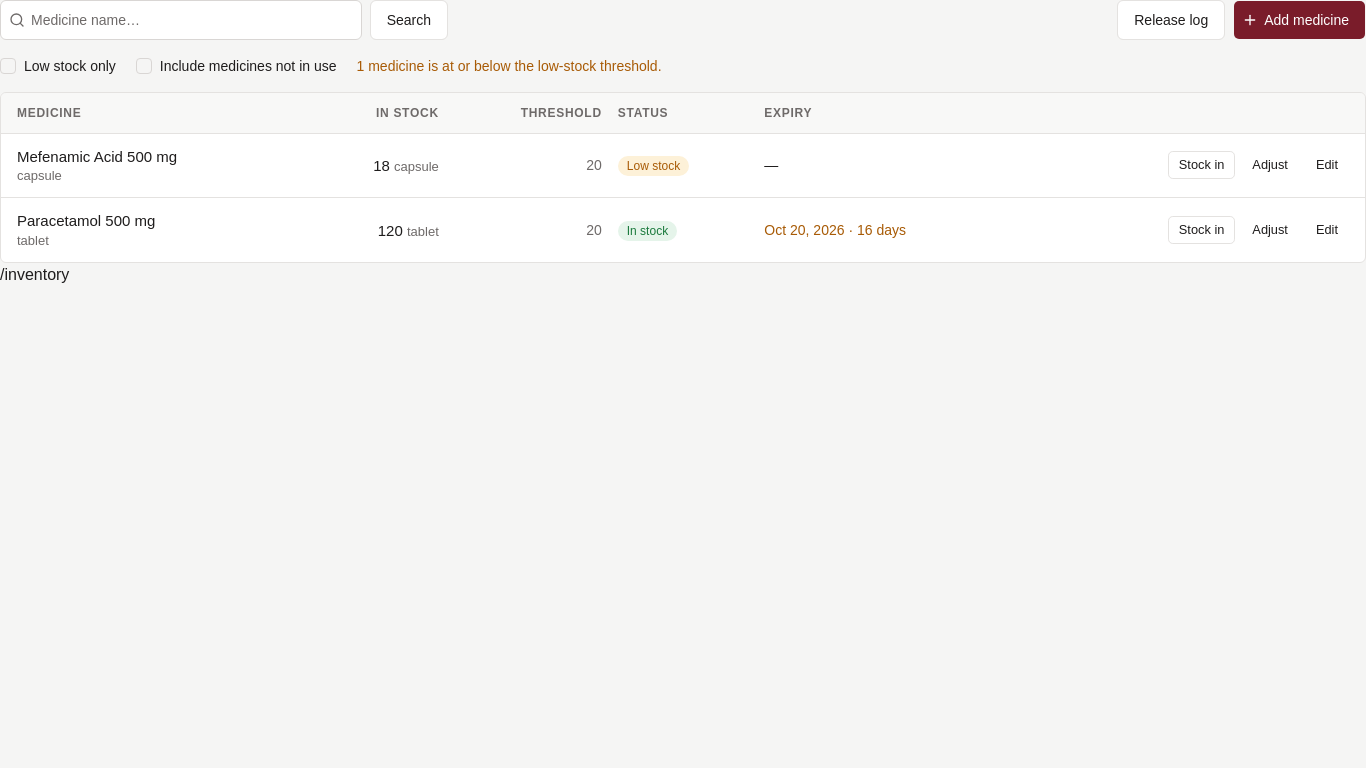
Test: edits a medicine and can take it out of use
Click the button with aria-label "Edit Mefenamic Acid 500 mg" at coordinates (1327, 166), box left=1305, top=152, right=1349, bottom=180
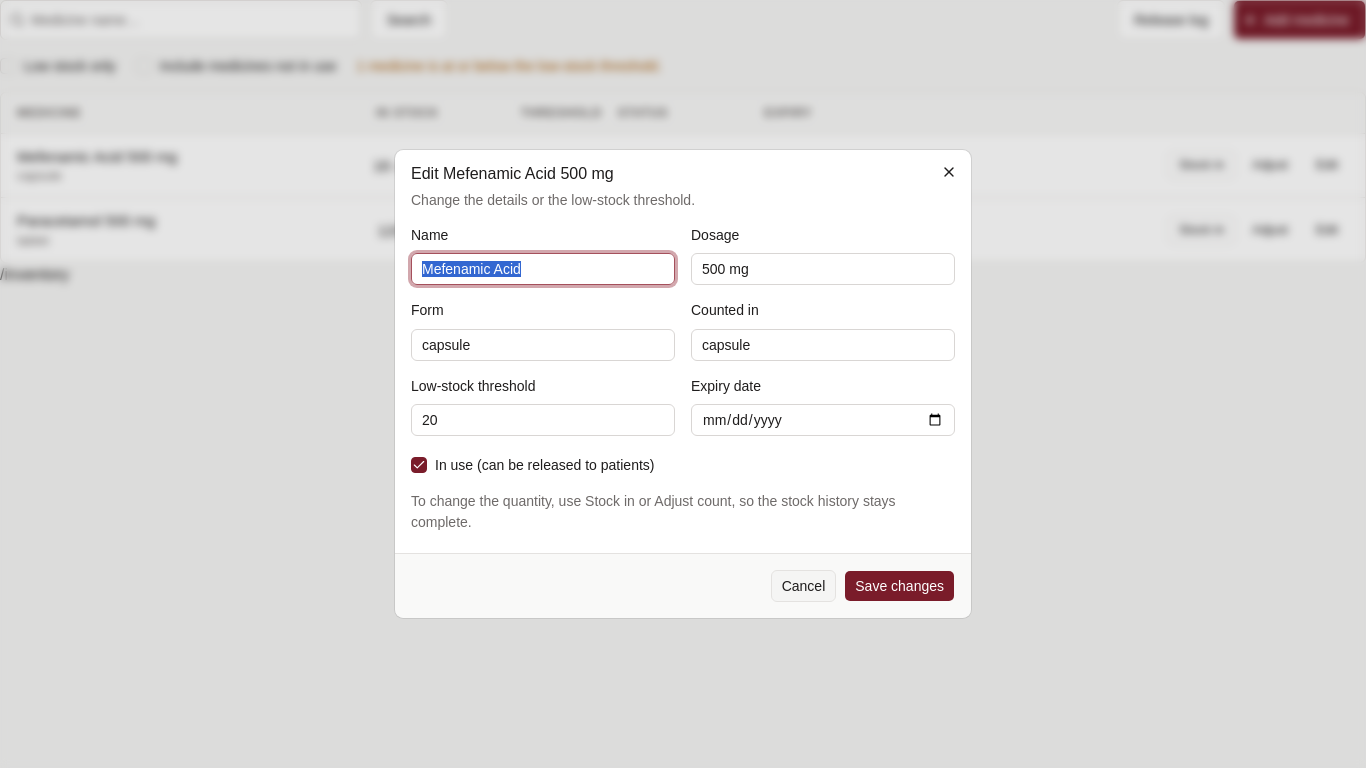
Expected: the field labelled "Name" holds "Mefenamic Acid", left=411, top=253, right=675, bottom=285
Replace the text in the field labelled "Low-stock threshold" with "30" at coordinates (543, 420), box left=411, top=404, right=675, bottom=436
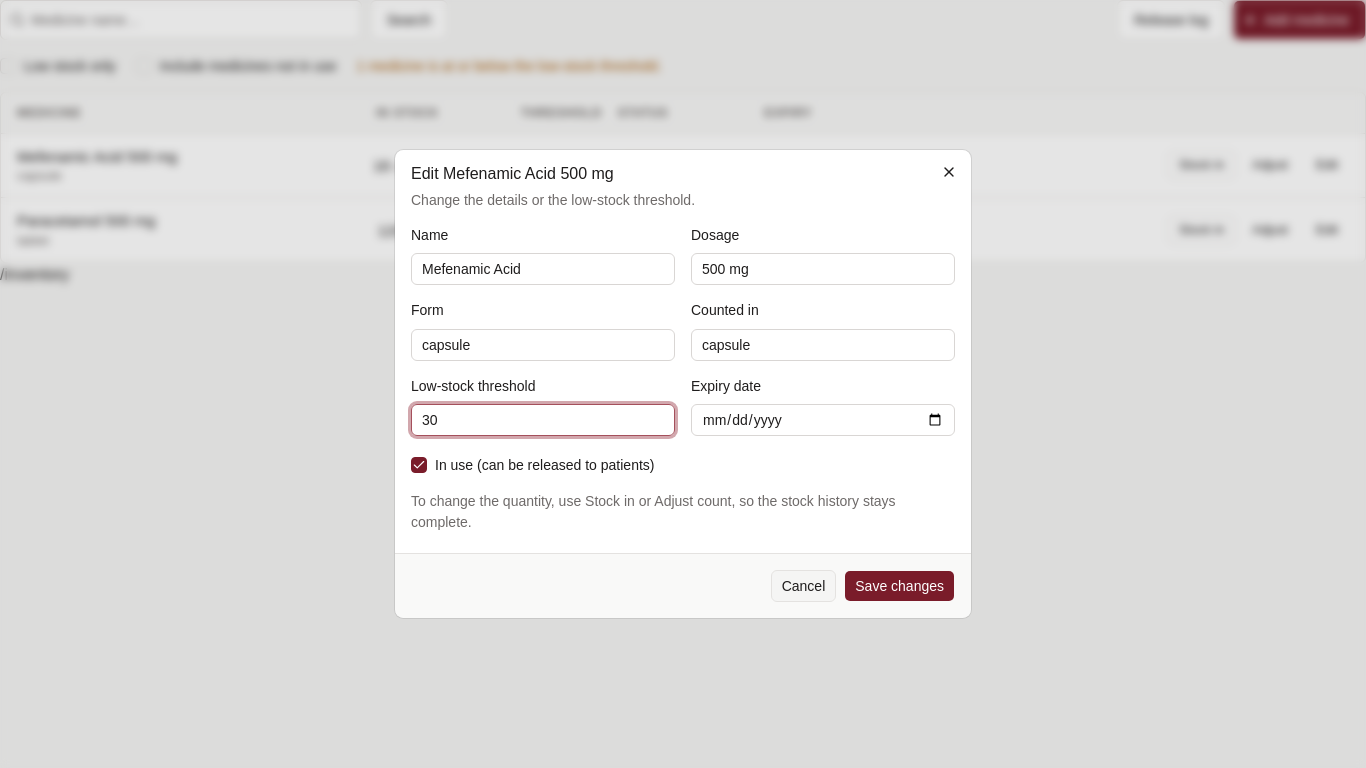
Click the checkbox named "In use (can be released to patients)" at coordinates (419, 465), box left=411, top=457, right=427, bottom=473
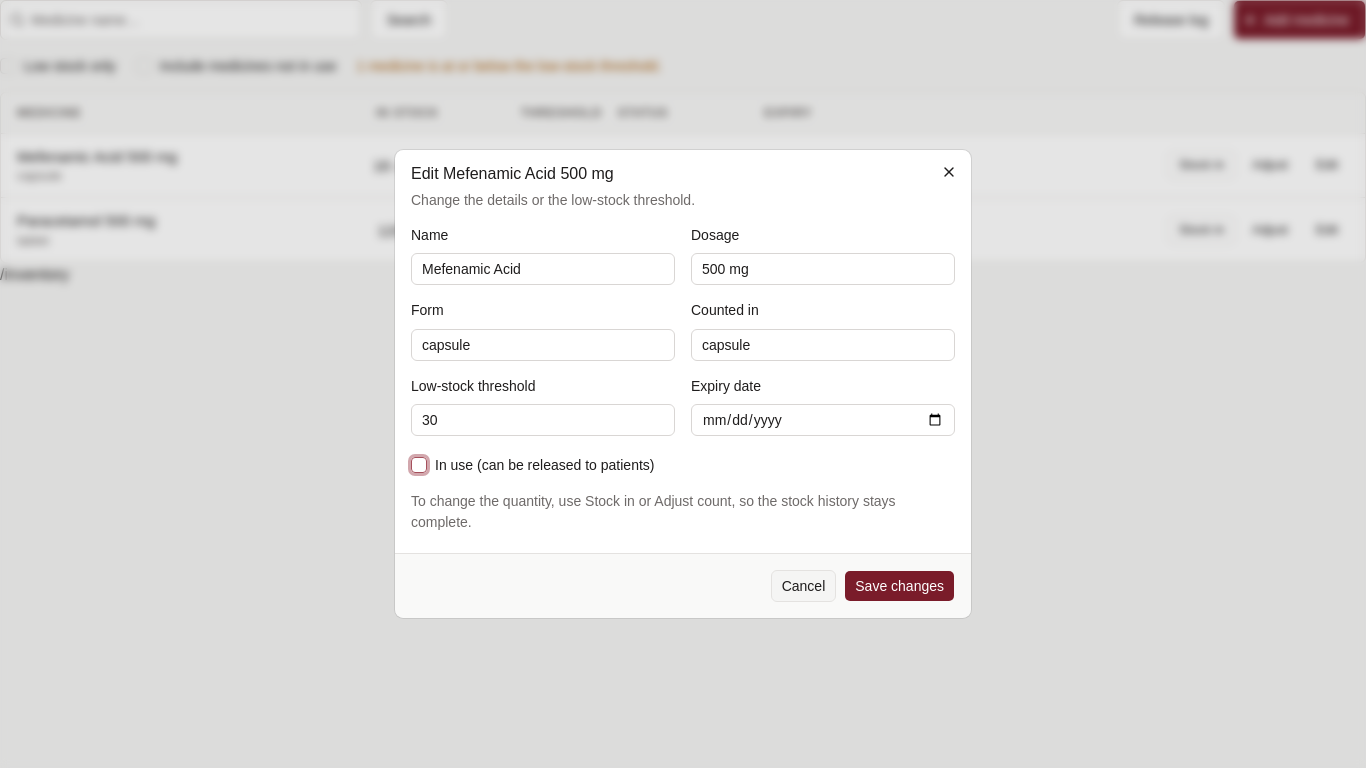
Click the button "Save changes" at coordinates (900, 586), box left=844, top=570, right=955, bottom=602
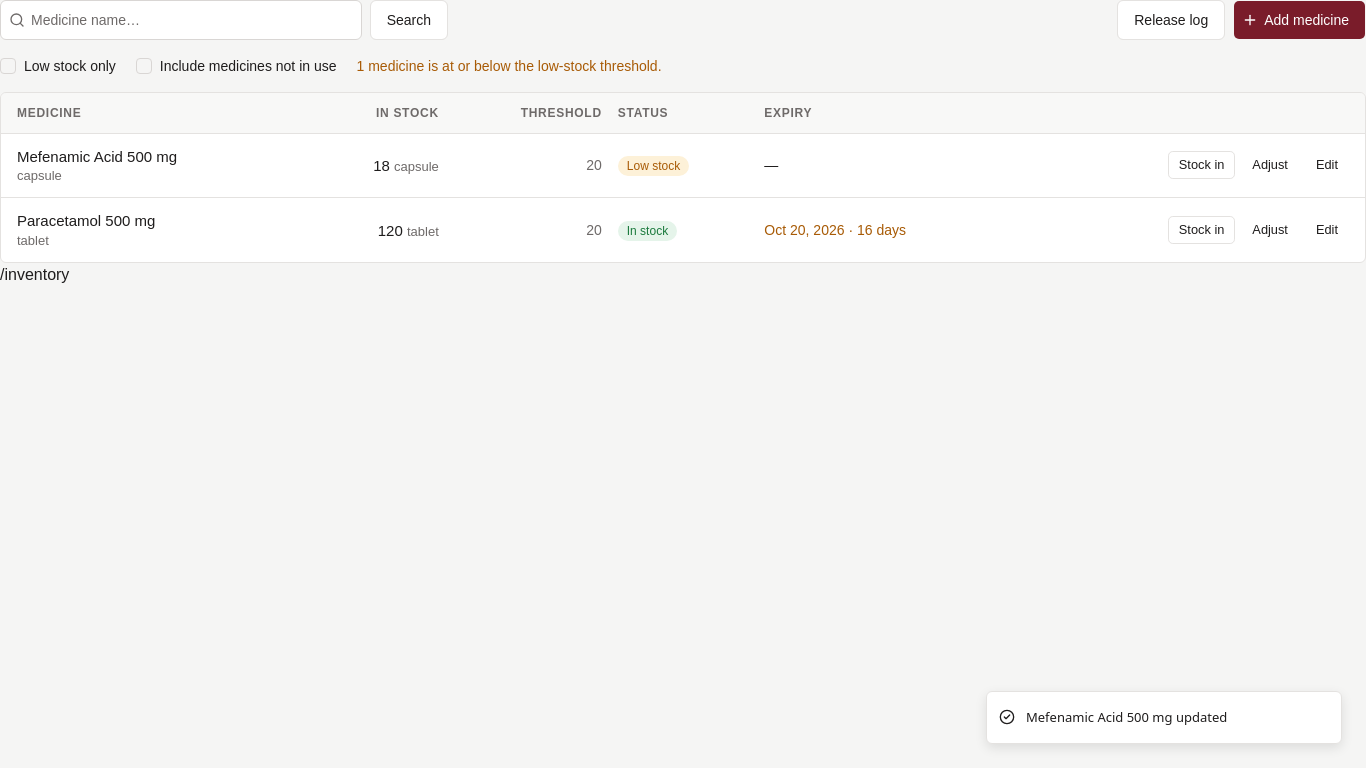
Expected: the text "Mefenamic Acid 500 mg updated" is shown, left=1026, top=708, right=1227, bottom=727
